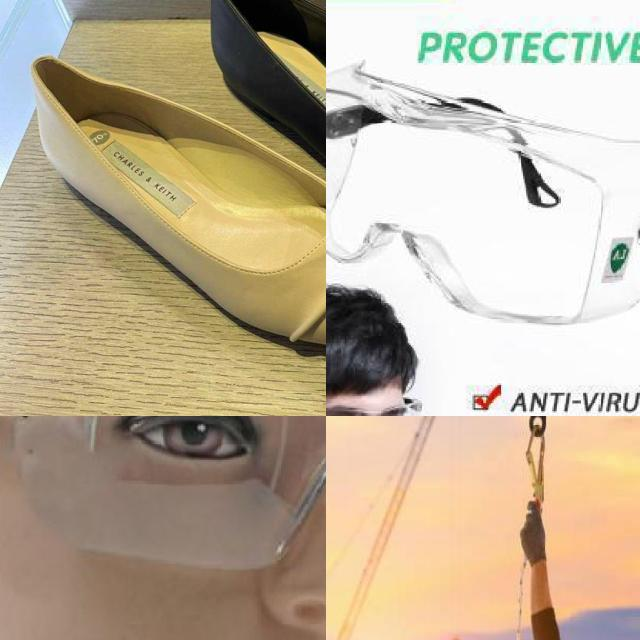Sandals: (0, 37, 326, 370), (186, 0, 326, 266)
face_mask: (326, 389, 423, 416)
face_nomask: (131, 416, 326, 640)
glasses: (0, 416, 326, 576)
head_nohelmet: (326, 287, 414, 408)
person: (326, 297, 509, 416)
